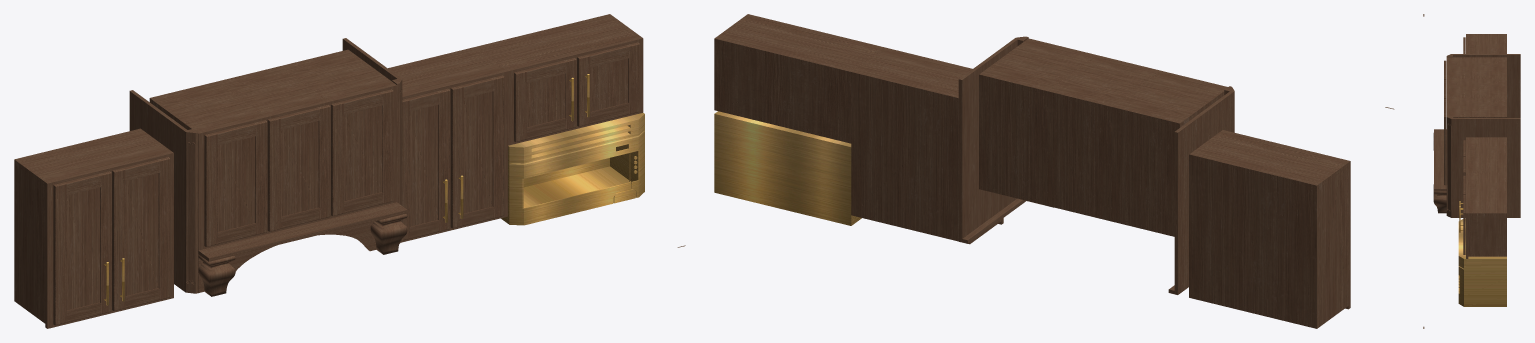
The model's file is alacena.obj.
3 renders of one model, left to right at view 1: azimuth 30°, elevation 25°; view 2: azimuth 150°, elevation 25°; view 3: azimuth 270°, elevation 25°, orthographic. The views are drawn at different scales.
Visible parts, largest first — view 1: Cabinets, Appliances, Cabinet_Pulls; view 2: Cabinets, Appliances; view 3: Cabinets, Appliances, Cabinet_Pulls.
Part boxes in pixels (bbox=[...]): Cabinets: bbox=[14, 14, 685, 328]; Appliances: bbox=[501, 113, 644, 225]; Cabinet_Pulls: bbox=[104, 74, 589, 305]; Cabinets: bbox=[714, 14, 1394, 328]; Appliances: bbox=[714, 111, 861, 225]; Cabinets: bbox=[1423, 14, 1520, 328]; Appliances: bbox=[1458, 218, 1506, 306]; Cabinet_Pulls: bbox=[1459, 201, 1463, 232].
Size of the model in its own units: 345 by 115 by 76.87.
Materials: 2 (2 with a texture image).
